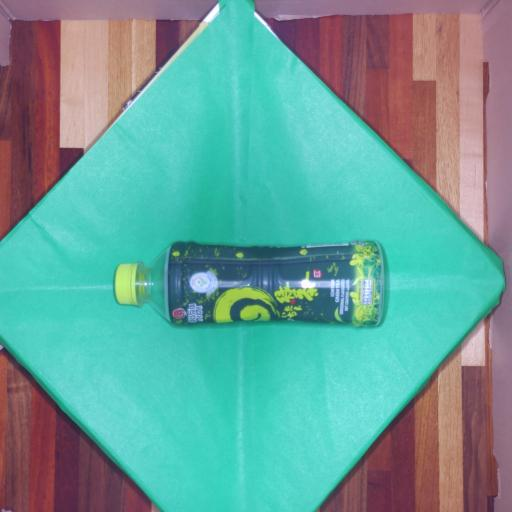bottle: (108, 232, 396, 332)
